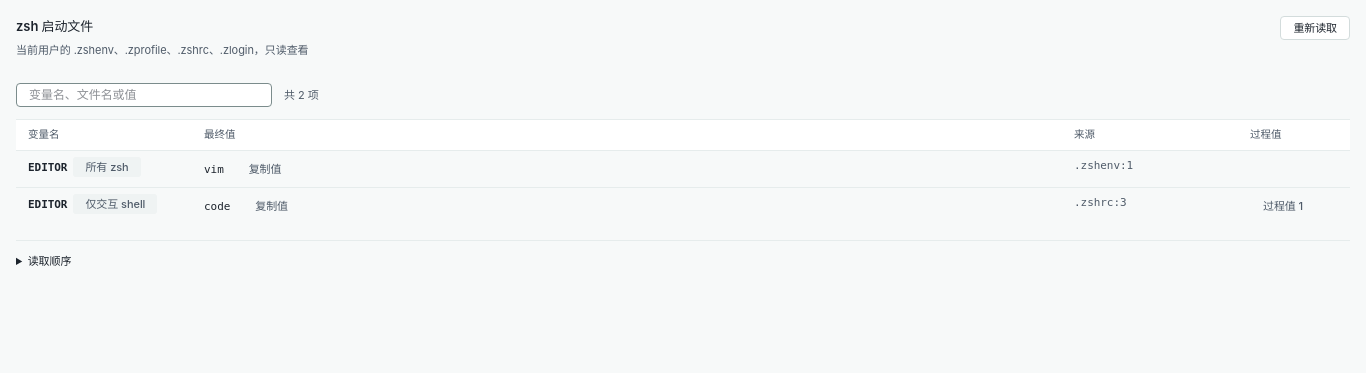
Test: zsh view: a name assigned in more than one file › keeps the earlier value of the narrower row as a process value, opened by 过程值 N
Click the button "过程值 1".
click(1283, 206)  # box [1250,194,1316,218]
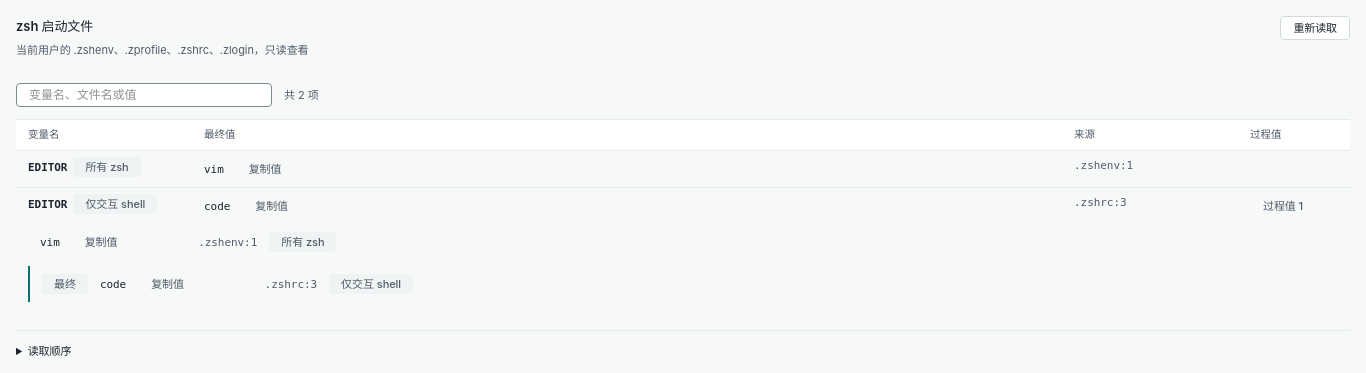
Check: the text ".zshenv:1" is shown, box [198,234,257,250]
Check: the text "最终" is shown, box [42,274,88,294]
Check: the text ".zshrc:3" is shown, box [265,276,317,292]
